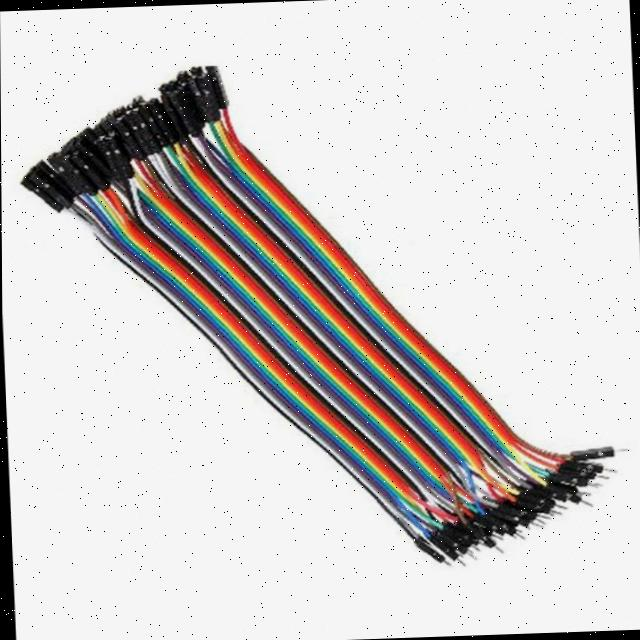Jumper Wires: (1, 25, 640, 596)
